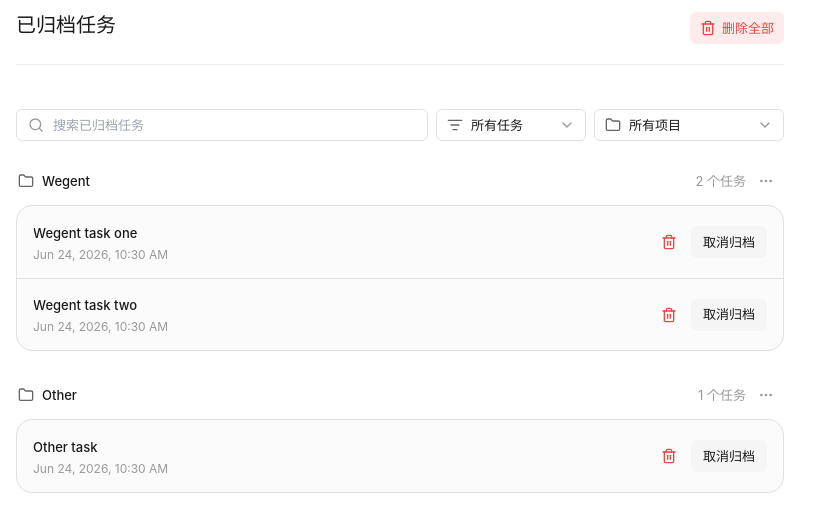
Test: ArchivedConversationsSettingsPage › groups projects with icons and counts, then hides the header for one selected project
Expected: the button "Wegent task one" is shown, [33,224,137,242]
Expected: the text with test id "archived-group-count-Wegent" reads "2 个任务", [695,173,746,189]
Click the button with test id "archived-project-actions-Wegent" at (766, 181), box [750,165,782,197]
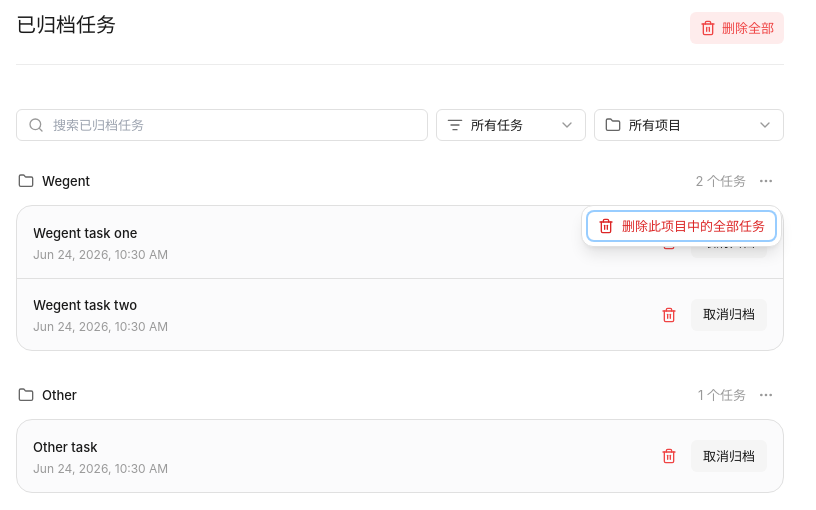
Expected: the menu item with test id "archived-delete-project-Wegent" reads "删除此项目中的全部任务", [586,210,777,242]
Click the button with test id "archived-project-filter" at (689, 125), box [594,109,784,141]
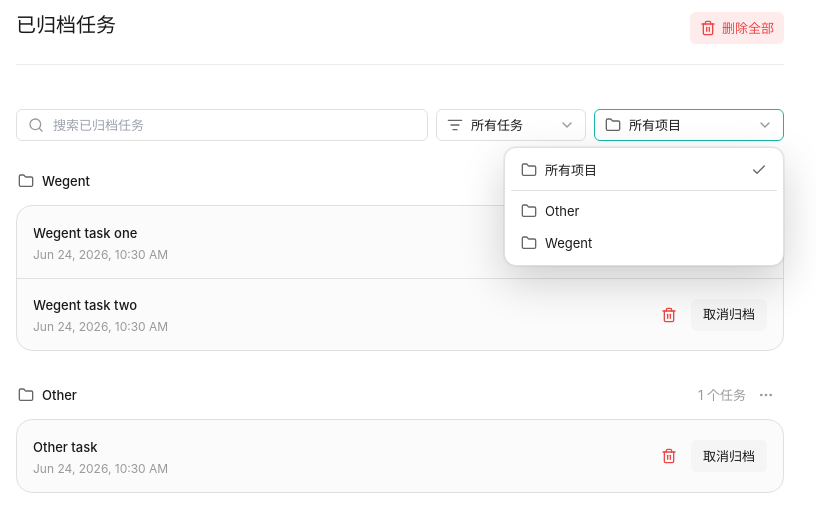
Click the menu item with test id "archived-project-option-Wegent" at (569, 243), box [511,227,777,259]
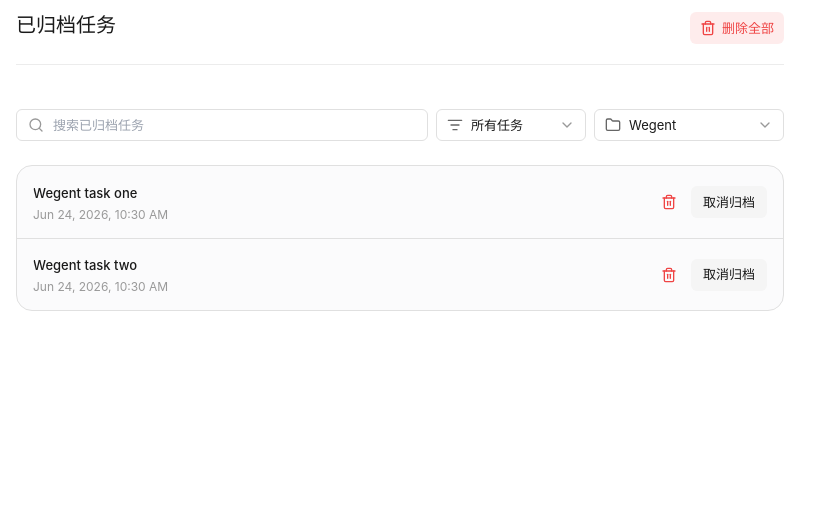
Expected: the button "Wegent task one" is shown, [33,184,137,202]
Expected: the button with test id "archived-project-filter" reads "Wegent", [594,109,784,141]
Expected: the button "Other task" is gone
